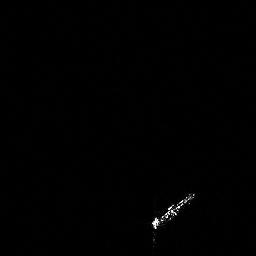ship: (150, 192, 198, 245)
